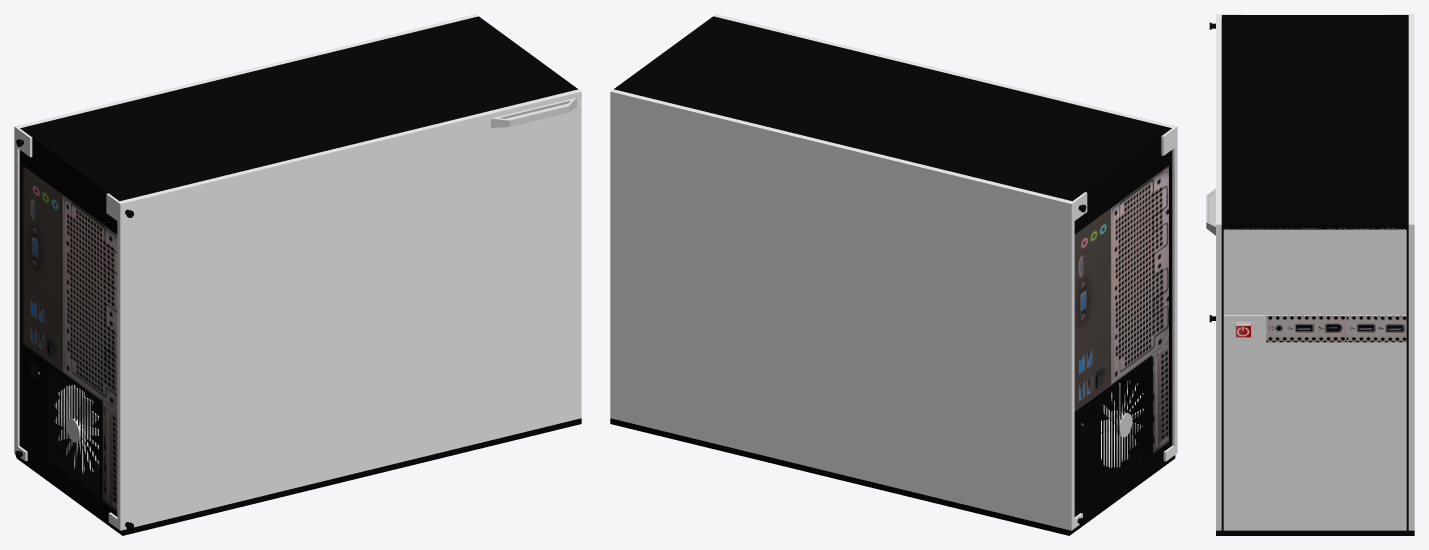
Rendered from case2 1.fbx.
3 views of the same model, side by side, from view 1: azimuth 30°, elevation 25°; view 2: azimuth 150°, elevation 25°; view 3: azimuth 270°, elevation 25° (orthographic). The views are drawn at different scales.
Visible parts, largest first — view 1: right, Plane, Back.001, power, left, powerfan; view 2: left, Plane, Back.001, power, right, powerfan; view 3: frontglass, Plane, left, right.
Boxes of the visible parts, x1,y1,x2,y2 form: right: (106, 89, 581, 530); Plane: (16, 16, 581, 535); Back.001: (23, 166, 117, 509); power: (22, 344, 102, 499); left: (14, 14, 478, 461); powerfan: (54, 385, 98, 473); left: (610, 89, 1087, 530); Plane: (610, 16, 1175, 535); Back.001: (1074, 166, 1168, 452); power: (1074, 356, 1152, 511); right: (713, 14, 1177, 461); powerfan: (1101, 380, 1143, 467); frontglass: (1223, 228, 1406, 530); Plane: (1216, 15, 1414, 535); left: (1385, 14, 1414, 530); right: (1206, 14, 1241, 530).
Bounding box in the file's own units: 25.74 × 17.3 × 10.48.
